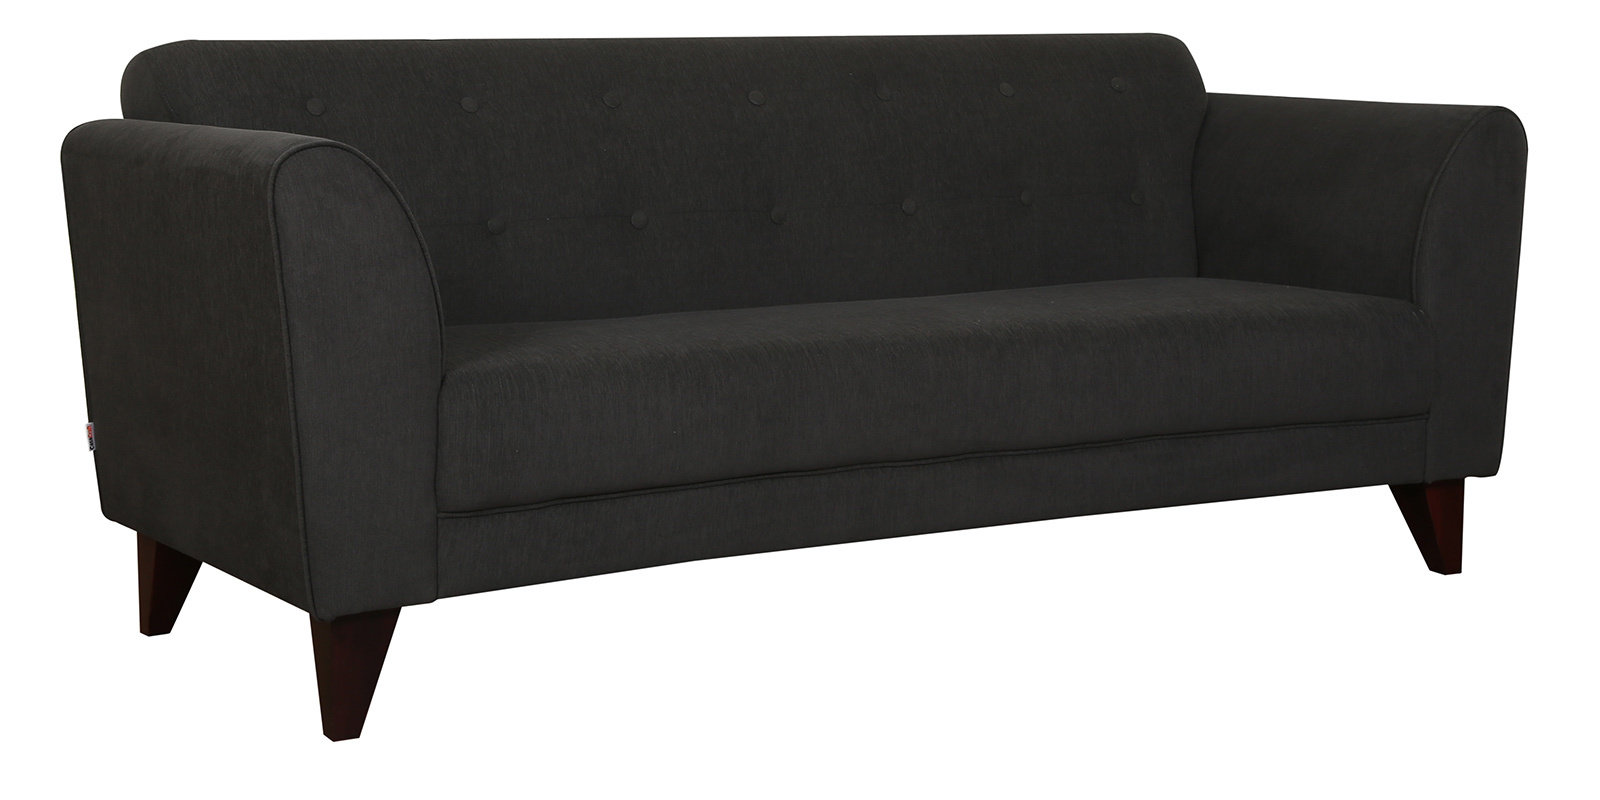Belem Three Seater Sofa in Charcoal Grey Color by CasaCraft: (43, 27, 1537, 641)
